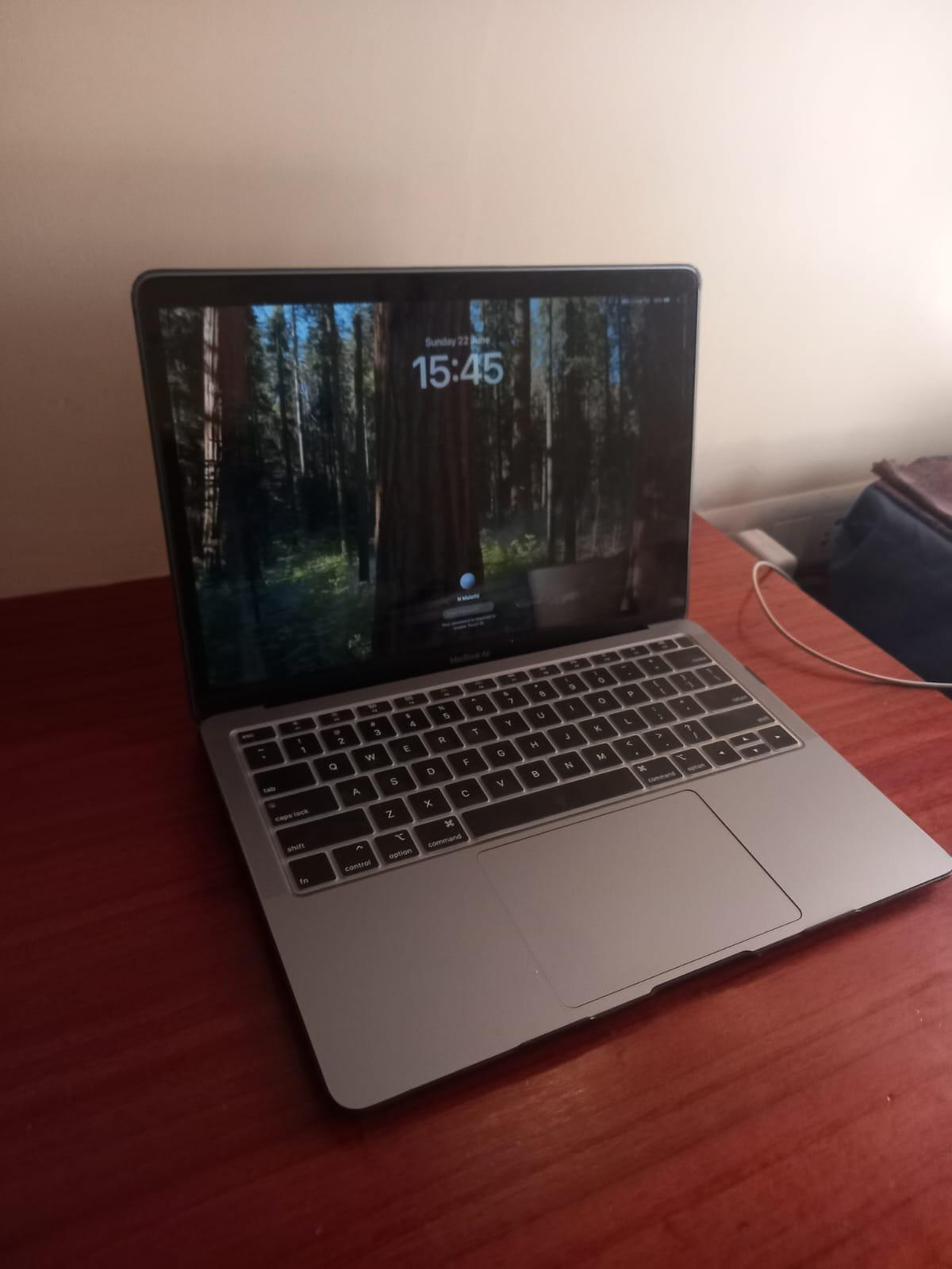laptop: (113, 265, 952, 1080)
